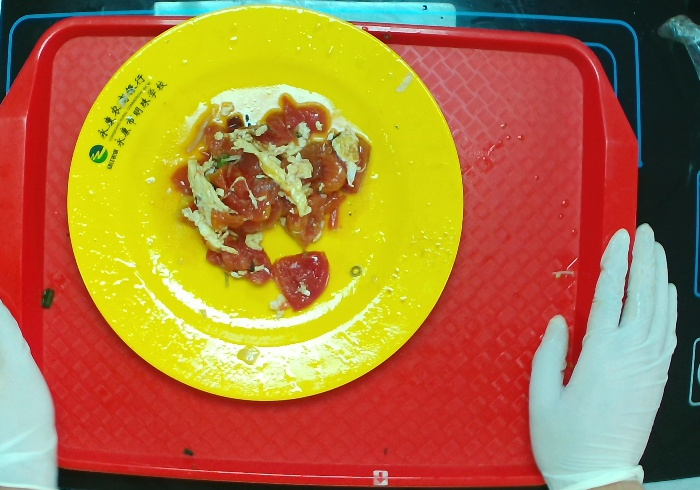YKMZ-Huang_Se_Mian_Pan: (67, 1, 466, 403)
